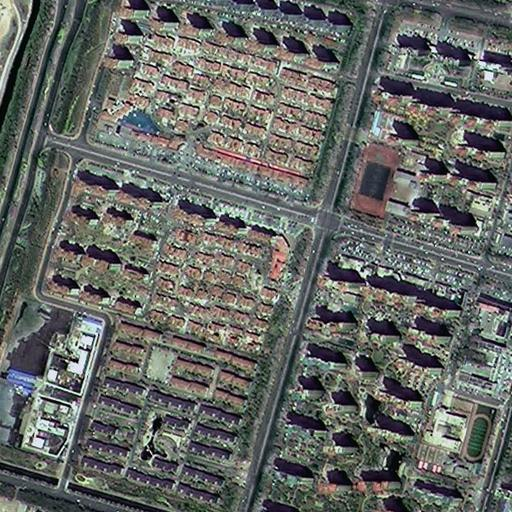school: (344, 110, 425, 223), (411, 385, 504, 483)
